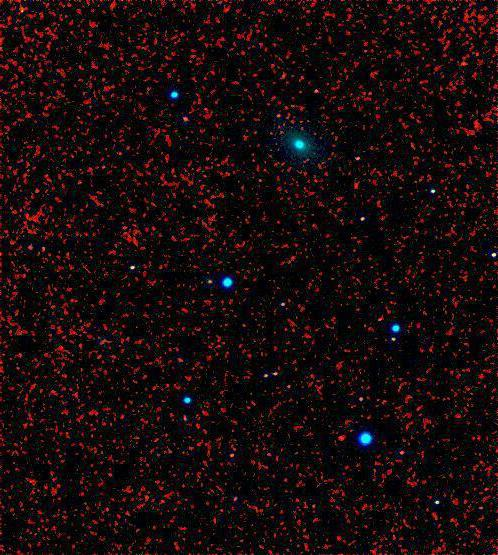star: (329, 422, 359, 452)
